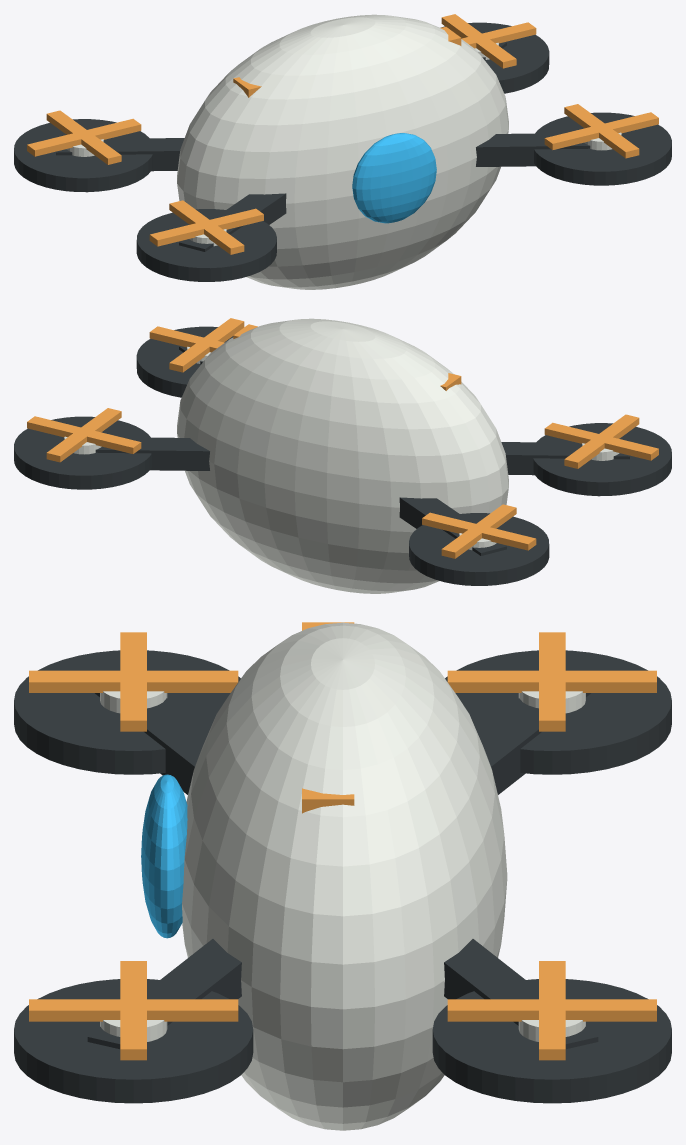
File: SafetyGuideDrone.fbx
The picture shows the model from 3 angles, top to bottom: view 1: azimuth 30°, elevation 25°; view 2: azimuth 150°, elevation 25°; view 3: azimuth 270°, elevation 25°; orthographic projection. The views are drawn at different scales.
Visible parts, largest first — view 1: rounded main body, front camera lens, rotor ring 1, rotor ring 2, rotor ring 3, rotor ring 4, carbon arm 2, carbon arm 3, rotor blade a 1, rotor blade a 2, carbon arm 1, rotor blade a 3 (+6 smaller); view 2: rounded main body, rotor ring 3, rotor ring 4, rotor ring 1, rotor ring 2, carbon arm 4, carbon arm 1, rotor blade a 1, rotor blade a 3, carbon arm 3, rotor blade a 4, rotor blade b 4 (+4 smaller); view 3: rounded main body, rotor ring 2, rotor ring 4, rotor ring 1, rotor ring 3, front camera lens, rotor blade b 1, rotor blade b 4, rotor blade b 3, rotor blade b 2, carbon arm 2, carbon arm 4 (+7 smaller).
Part boxes in pixels (bbox=[...]): rounded main body: bbox=[177, 14, 508, 289]; front camera lens: bbox=[352, 133, 436, 223]; rotor ring 1: bbox=[136, 209, 276, 281]; rotor ring 2: bbox=[534, 112, 671, 185]; rotor ring 3: bbox=[14, 119, 152, 192]; rotor ring 4: bbox=[440, 22, 549, 93]; carbon arm 2: bbox=[476, 132, 630, 166]; carbon arm 3: bbox=[56, 138, 184, 171]; rotor blade a 1: bbox=[149, 208, 263, 246]; rotor blade a 2: bbox=[544, 112, 658, 149]; carbon arm 1: bbox=[179, 193, 286, 251]; rotor blade a 3: bbox=[27, 118, 141, 156]; rounded main body: bbox=[177, 318, 508, 593]; rotor ring 3: bbox=[409, 513, 549, 585]; rotor ring 4: bbox=[14, 416, 151, 489]; rotor ring 1: bbox=[533, 423, 671, 496]; rotor ring 2: bbox=[136, 326, 233, 397]; carbon arm 4: bbox=[55, 436, 209, 470]; carbon arm 1: bbox=[501, 442, 629, 475]; rotor blade a 1: bbox=[544, 422, 658, 460]; rotor blade a 3: bbox=[422, 512, 536, 550]; carbon arm 3: bbox=[399, 497, 506, 555]; rotor blade a 4: bbox=[27, 416, 141, 453]; rotor blade b 4: bbox=[46, 408, 121, 462]; rounded main body: bbox=[182, 622, 507, 1130]; rotor ring 2: bbox=[14, 979, 253, 1103]; rotor ring 4: bbox=[432, 979, 671, 1103]; rotor ring 1: bbox=[14, 650, 240, 774]; rotor ring 3: bbox=[445, 650, 671, 774]; front camera lens: bbox=[141, 774, 187, 938]; rotor blade b 1: bbox=[29, 670, 238, 692]; rotor blade b 4: bbox=[447, 999, 656, 1021]; rotor blade b 3: bbox=[447, 670, 656, 692]; rotor blade b 2: bbox=[29, 999, 238, 1021]; carbon arm 2: bbox=[87, 939, 241, 1049]; carbon arm 4: bbox=[444, 939, 598, 1049].
Bounding box in the file's own units: 1.36 × 0.64 × 0.88.
